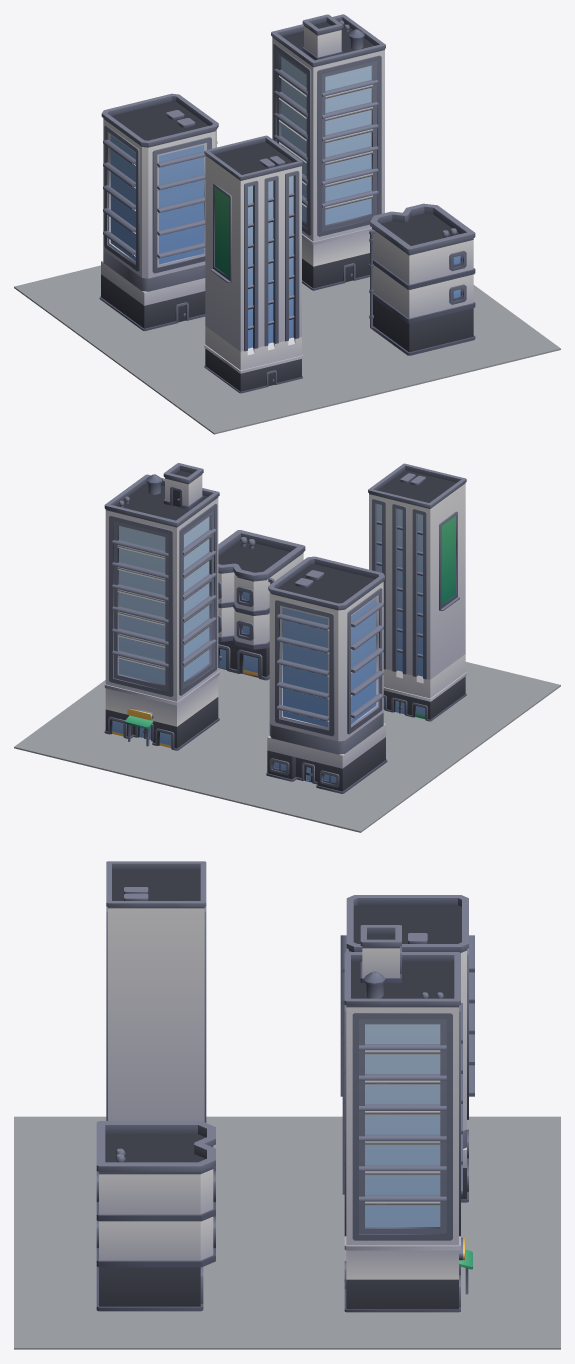
The model's file is city_block.glb.
The picture shows the model from 3 angles, top to bottom: view 1: azimuth 30°, elevation 25°; view 2: azimuth 150°, elevation 25°; view 3: azimuth 270°, elevation 25°; orthographic projection. The views are drawn at different scales.
Parts seen in each view (by area): view 1: ground, building-skyscraper-c, building-skyscraper-e, building-skyscraper-a, building-a; view 2: ground, building-skyscraper-c, building-skyscraper-a, building-skyscraper-e, building-a; view 3: ground, building-skyscraper-c, building-skyscraper-e, building-a, building-skyscraper-a.
Boxes of the visible parts, <box> form: ground: <box>14,265,560,434</box>; building-skyscraper-c: <box>271,14,385,290</box>; building-skyscraper-e: <box>204,135,302,393</box>; building-skyscraper-a: <box>99,93,218,330</box>; building-a: <box>369,203,475,355</box>; ground: <box>14,662,560,832</box>; building-skyscraper-c: <box>104,463,219,750</box>; building-skyscraper-a: <box>266,556,387,793</box>; building-skyscraper-e: <box>368,463,466,721</box>; building-a: <box>218,530,305,680</box>; ground: <box>14,1116,560,1349</box>; building-skyscraper-c: <box>342,925,472,1312</box>; building-skyscraper-e: <box>106,861,206,1122</box>; building-a: <box>96,1121,215,1311</box>; building-skyscraper-a: <box>340,895,474,1202</box>.
Bounding box in the file's own units: 100 × 70 × 100.
2 materials, 1 textured.
